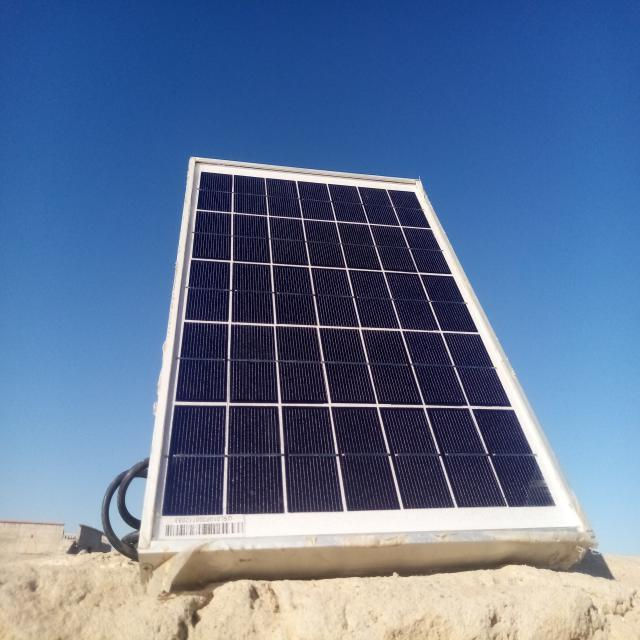Normal Solar Panel: (140, 156, 596, 551)
